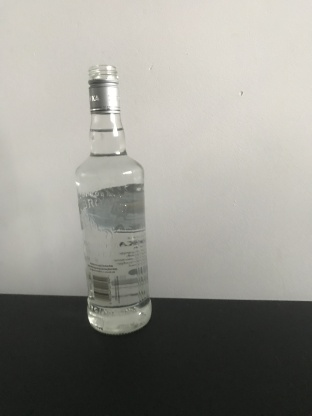nakretka: (86, 62, 122, 116)
